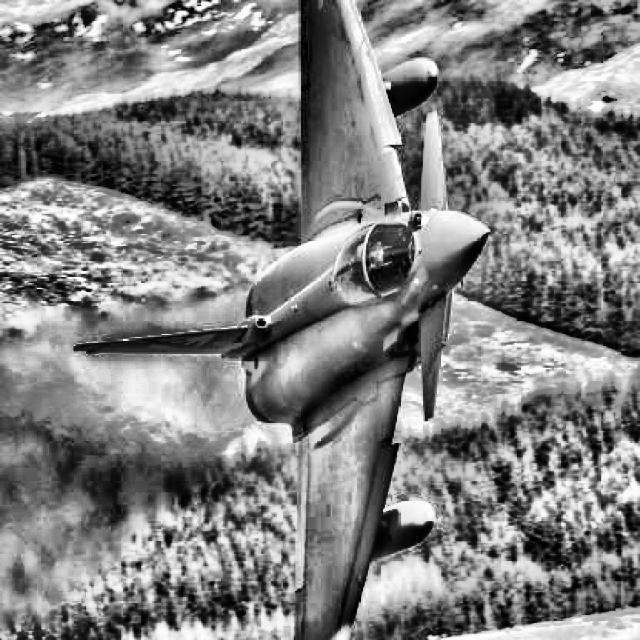EF2000: (73, 1, 490, 639)
